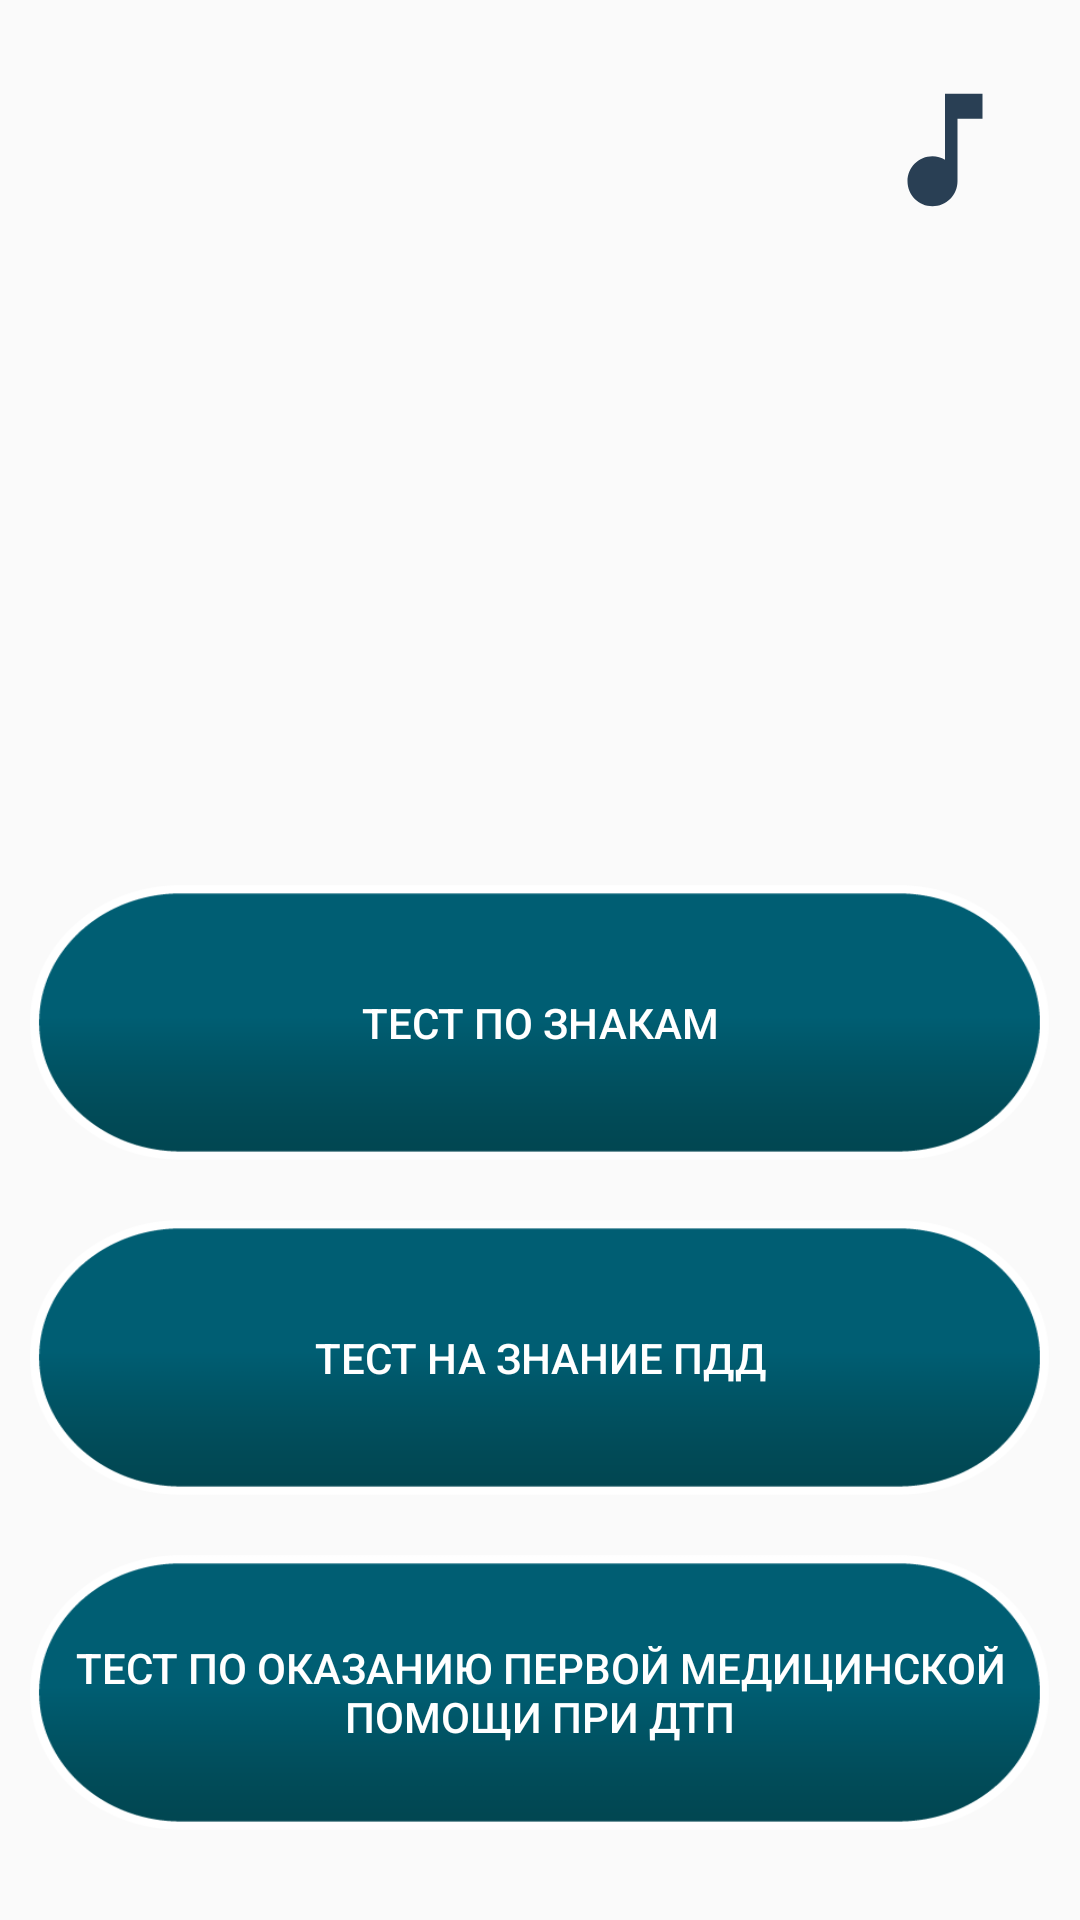

Icon bounding boxes for this 1080x1920 phone screenshot, format (x1, y1, x2, y2):
music on: (907, 93, 983, 207)
